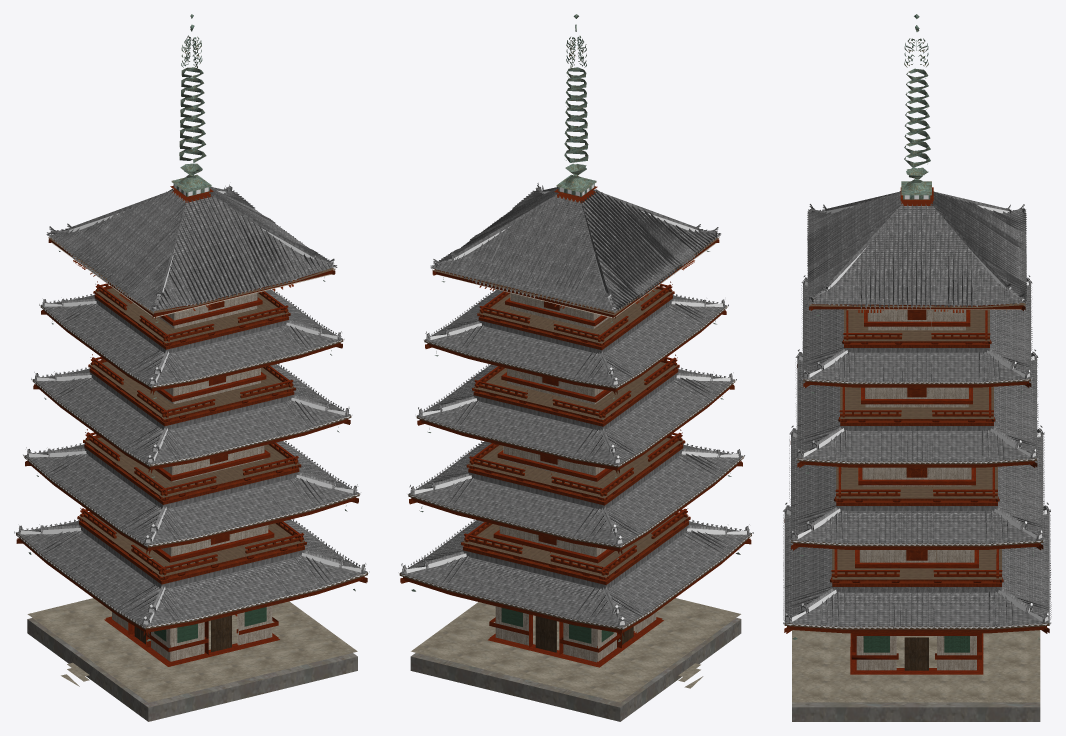
File: Pagoda_Goju_38m.gltf
3 views of the same model, side by side, from view 1: azimuth 30°, elevation 25°; view 2: azimuth 150°, elevation 25°; view 3: azimuth 270°, elevation 25° (orthographic). The views are drawn at different scales.
Parts seen in each view (by area): view 1: Roof5_LOD0.003, Roof1_LOD0.009, Roof2_LOD0.009, Base_LOD0.009, Roof3_LOD0.006, Roof4_LOD0.003, Wall1_LOD0.009, Sorin_LOD0.009, Wall2_LOD0.009, Wall4_LOD0.003, Wall3_LOD0.006, Wall5_LOD0.003; view 2: Roof5_LOD0.003, Roof1_LOD0.009, Roof2_LOD0.009, Base_LOD0.009, Roof3_LOD0.006, Roof4_LOD0.003, Wall1_LOD0.009, Sorin_LOD0.009, Wall2_LOD0.009, Wall4_LOD0.003, Wall3_LOD0.006, Wall5_LOD0.003; view 3: Roof5_LOD0.003, Roof1_LOD0.009, Roof2_LOD0.009, Roof3_LOD0.006, Base_LOD0.009, Roof4_LOD0.003, Wall1_LOD0.009, Sorin_LOD0.009, Wall2_LOD0.009, Wall3_LOD0.006, Wall4_LOD0.003, Wall5_LOD0.003 (+2 smaller).
Boxes of the visible parts, left/top/right/bottom form: Roof5_LOD0.003: left=46, top=184, right=337, bottom=317; Roof1_LOD0.009: left=14, top=506, right=369, bottom=632; Roof2_LOD0.009: left=23, top=429, right=360, bottom=550; Base_LOD0.009: left=27, top=598, right=357, bottom=721; Roof3_LOD0.006: left=31, top=354, right=352, bottom=469; Roof4_LOD0.003: left=39, top=281, right=344, bottom=391; Wall1_LOD0.009: left=16, top=538, right=367, bottom=666; Sorin_LOD0.009: left=171, top=14, right=211, bottom=196; Wall2_LOD0.009: left=25, top=461, right=358, bottom=562; Wall4_LOD0.003: left=41, top=310, right=342, bottom=404; Wall3_LOD0.006: left=33, top=384, right=350, bottom=481; Wall5_LOD0.003: left=48, top=239, right=335, bottom=328; Roof5_LOD0.003: left=430, top=183, right=720, bottom=318; Roof1_LOD0.009: left=398, top=506, right=753, bottom=633; Roof2_LOD0.009: left=407, top=429, right=744, bottom=551; Base_LOD0.009: left=410, top=598, right=741, bottom=721; Roof3_LOD0.006: left=415, top=354, right=736, bottom=470; Roof4_LOD0.003: left=423, top=281, right=728, bottom=391; Wall1_LOD0.009: left=400, top=538, right=751, bottom=667; Sorin_LOD0.009: left=556, top=14, right=596, bottom=196; Wall2_LOD0.009: left=409, top=461, right=742, bottom=563; Wall4_LOD0.003: left=425, top=310, right=726, bottom=404; Wall3_LOD0.006: left=417, top=384, right=734, bottom=482; Wall5_LOD0.003: left=432, top=239, right=719, bottom=329; Roof5_LOD0.003: left=807, top=187, right=1026, bottom=312; Roof1_LOD0.009: left=783, top=502, right=1051, bottom=633; Roof2_LOD0.009: left=789, top=425, right=1044, bottom=549; Roof3_LOD0.006: left=795, top=349, right=1038, bottom=467; Base_LOD0.009: left=792, top=630, right=1040, bottom=721; Roof4_LOD0.003: left=801, top=275, right=1032, bottom=387; Wall1_LOD0.009: left=784, top=519, right=1049, bottom=674; Sorin_LOD0.009: left=901, top=14, right=931, bottom=199; Wall2_LOD0.009: left=790, top=441, right=1043, bottom=568; Wall3_LOD0.006: left=797, top=364, right=1037, bottom=486; Wall4_LOD0.003: left=803, top=310, right=1031, bottom=407; Wall5_LOD0.003: left=809, top=305, right=1025, bottom=330.
Bounding box in the file's own units: 14.44 × 37.23 × 13.86.
Materials: 14 (13 with a texture image).
